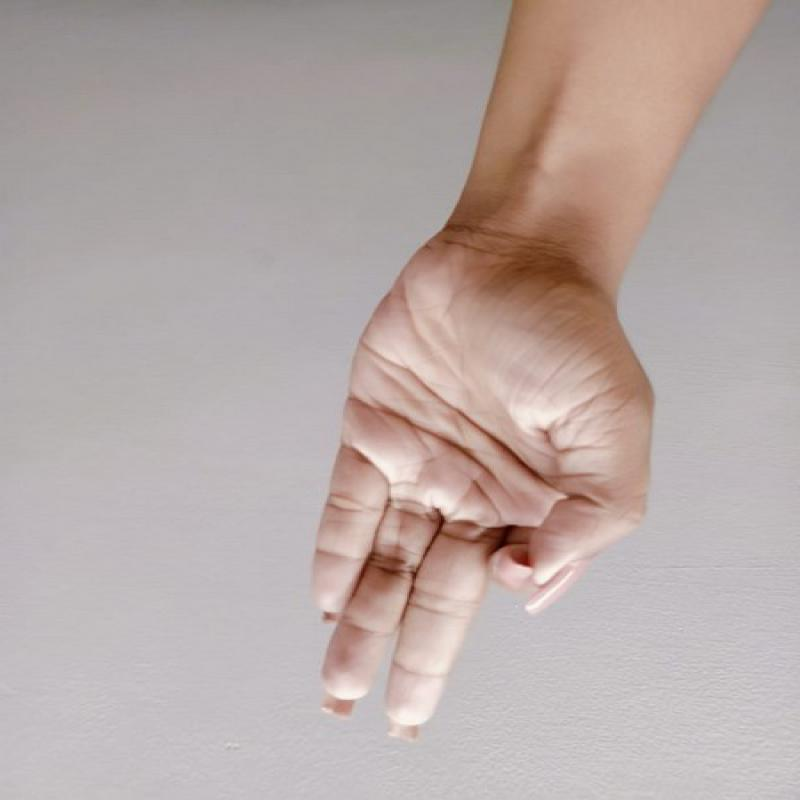Mudraakhyam: (287, 222, 676, 750)
